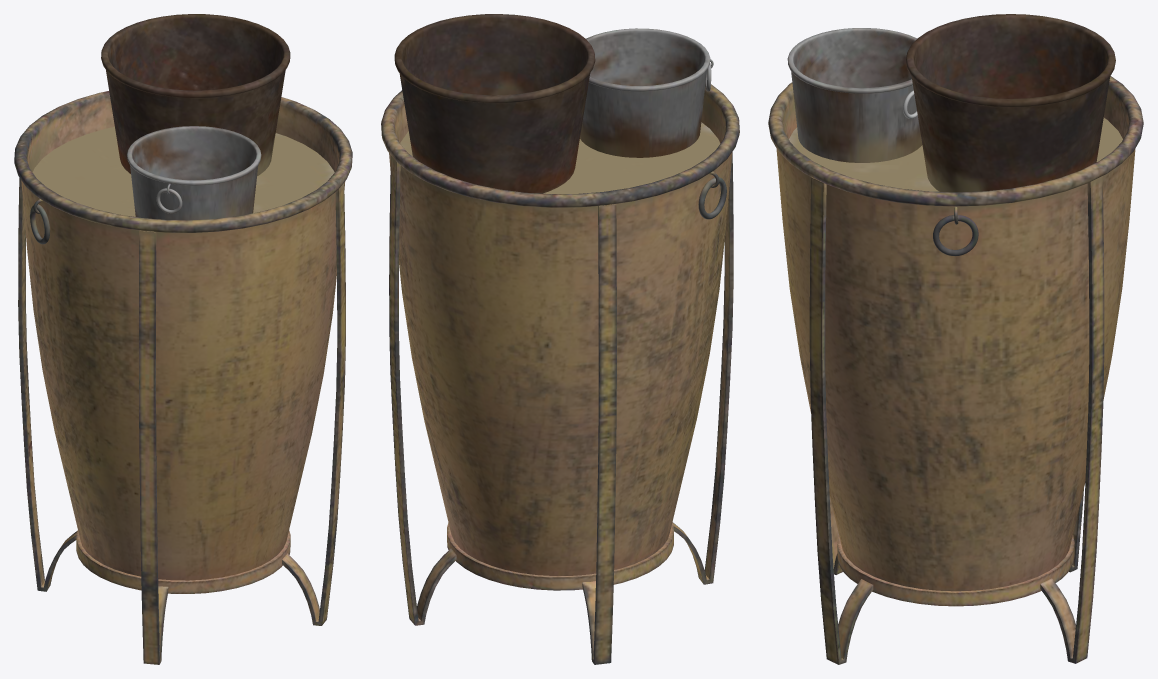
The model's file is xi_dsp_bronze_pot.gltf.
3 views of the same model, side by side, from view 1: azimuth 30°, elevation 25°; view 2: azimuth 150°, elevation 25°; view 3: azimuth 270°, elevation 25° (orthographic). The views are drawn at different scales.
Parts seen in each view (by area): view 1: xi_dsp_bronze_pot; view 2: xi_dsp_bronze_pot; view 3: xi_dsp_bronze_pot.
Boxes of the visible parts, x1,y1,x2,y2 form: xi_dsp_bronze_pot: (14,14,352,664); xi_dsp_bronze_pot: (381,14,739,664); xi_dsp_bronze_pot: (768,14,1143,664).
Size of the model in its own units: 0.5659 by 0.9444 by 0.5545.
1 material, 1 textured.
